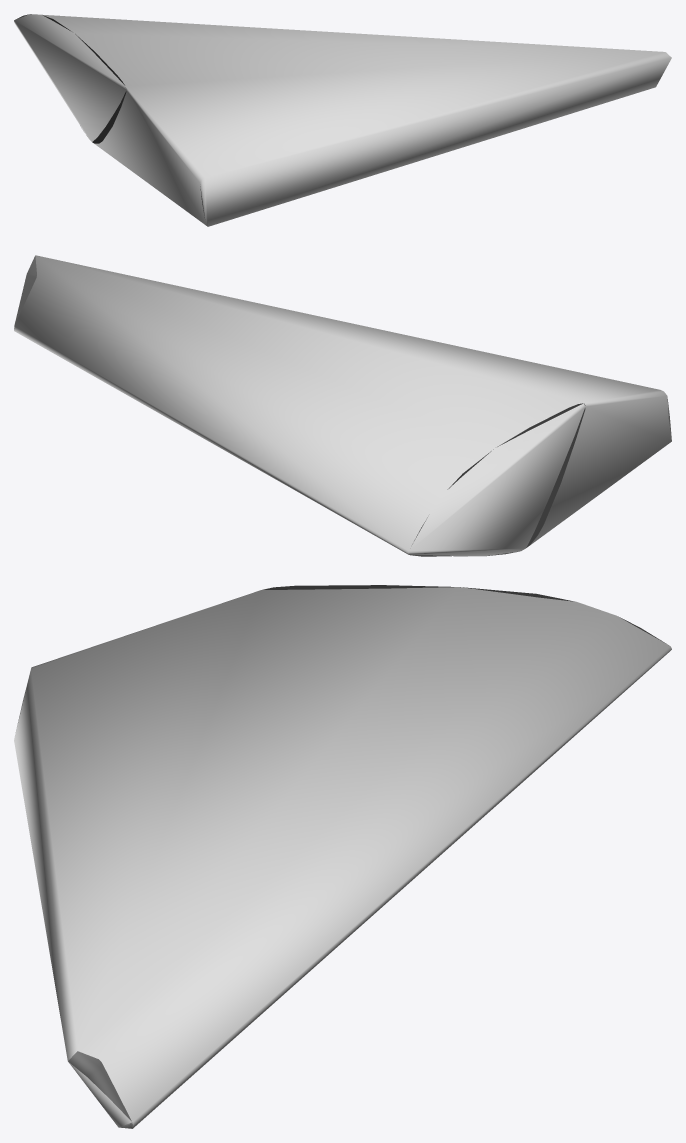
3 renders of one model, top to bottom at view 1: azimuth 30°, elevation 25°; view 2: azimuth 150°, elevation 25°; view 3: azimuth 270°, elevation 25°, orthographic. The views are drawn at different scales.
Parts seen in each view (by area): view 1: grille_eclipse_head_l_01_col, grille_eclipse_head_l_01; view 2: grille_eclipse_head_l_01_col, grille_eclipse_head_l_01; view 3: grille_eclipse_head_l_01_col, grille_eclipse_head_l_01.
Part boxes in pixels (x1,y1,x2,y2): grille_eclipse_head_l_01_col: [14, 14, 671, 226]; grille_eclipse_head_l_01: [17, 14, 205, 219]; grille_eclipse_head_l_01_col: [14, 255, 671, 556]; grille_eclipse_head_l_01: [14, 256, 671, 556]; grille_eclipse_head_l_01_col: [14, 587, 671, 1128]; grille_eclipse_head_l_01: [17, 585, 666, 1128].
Size of the model in its own units: 0.5442 by 0.1031 by 0.3853.
3 materials, 3 textured.
